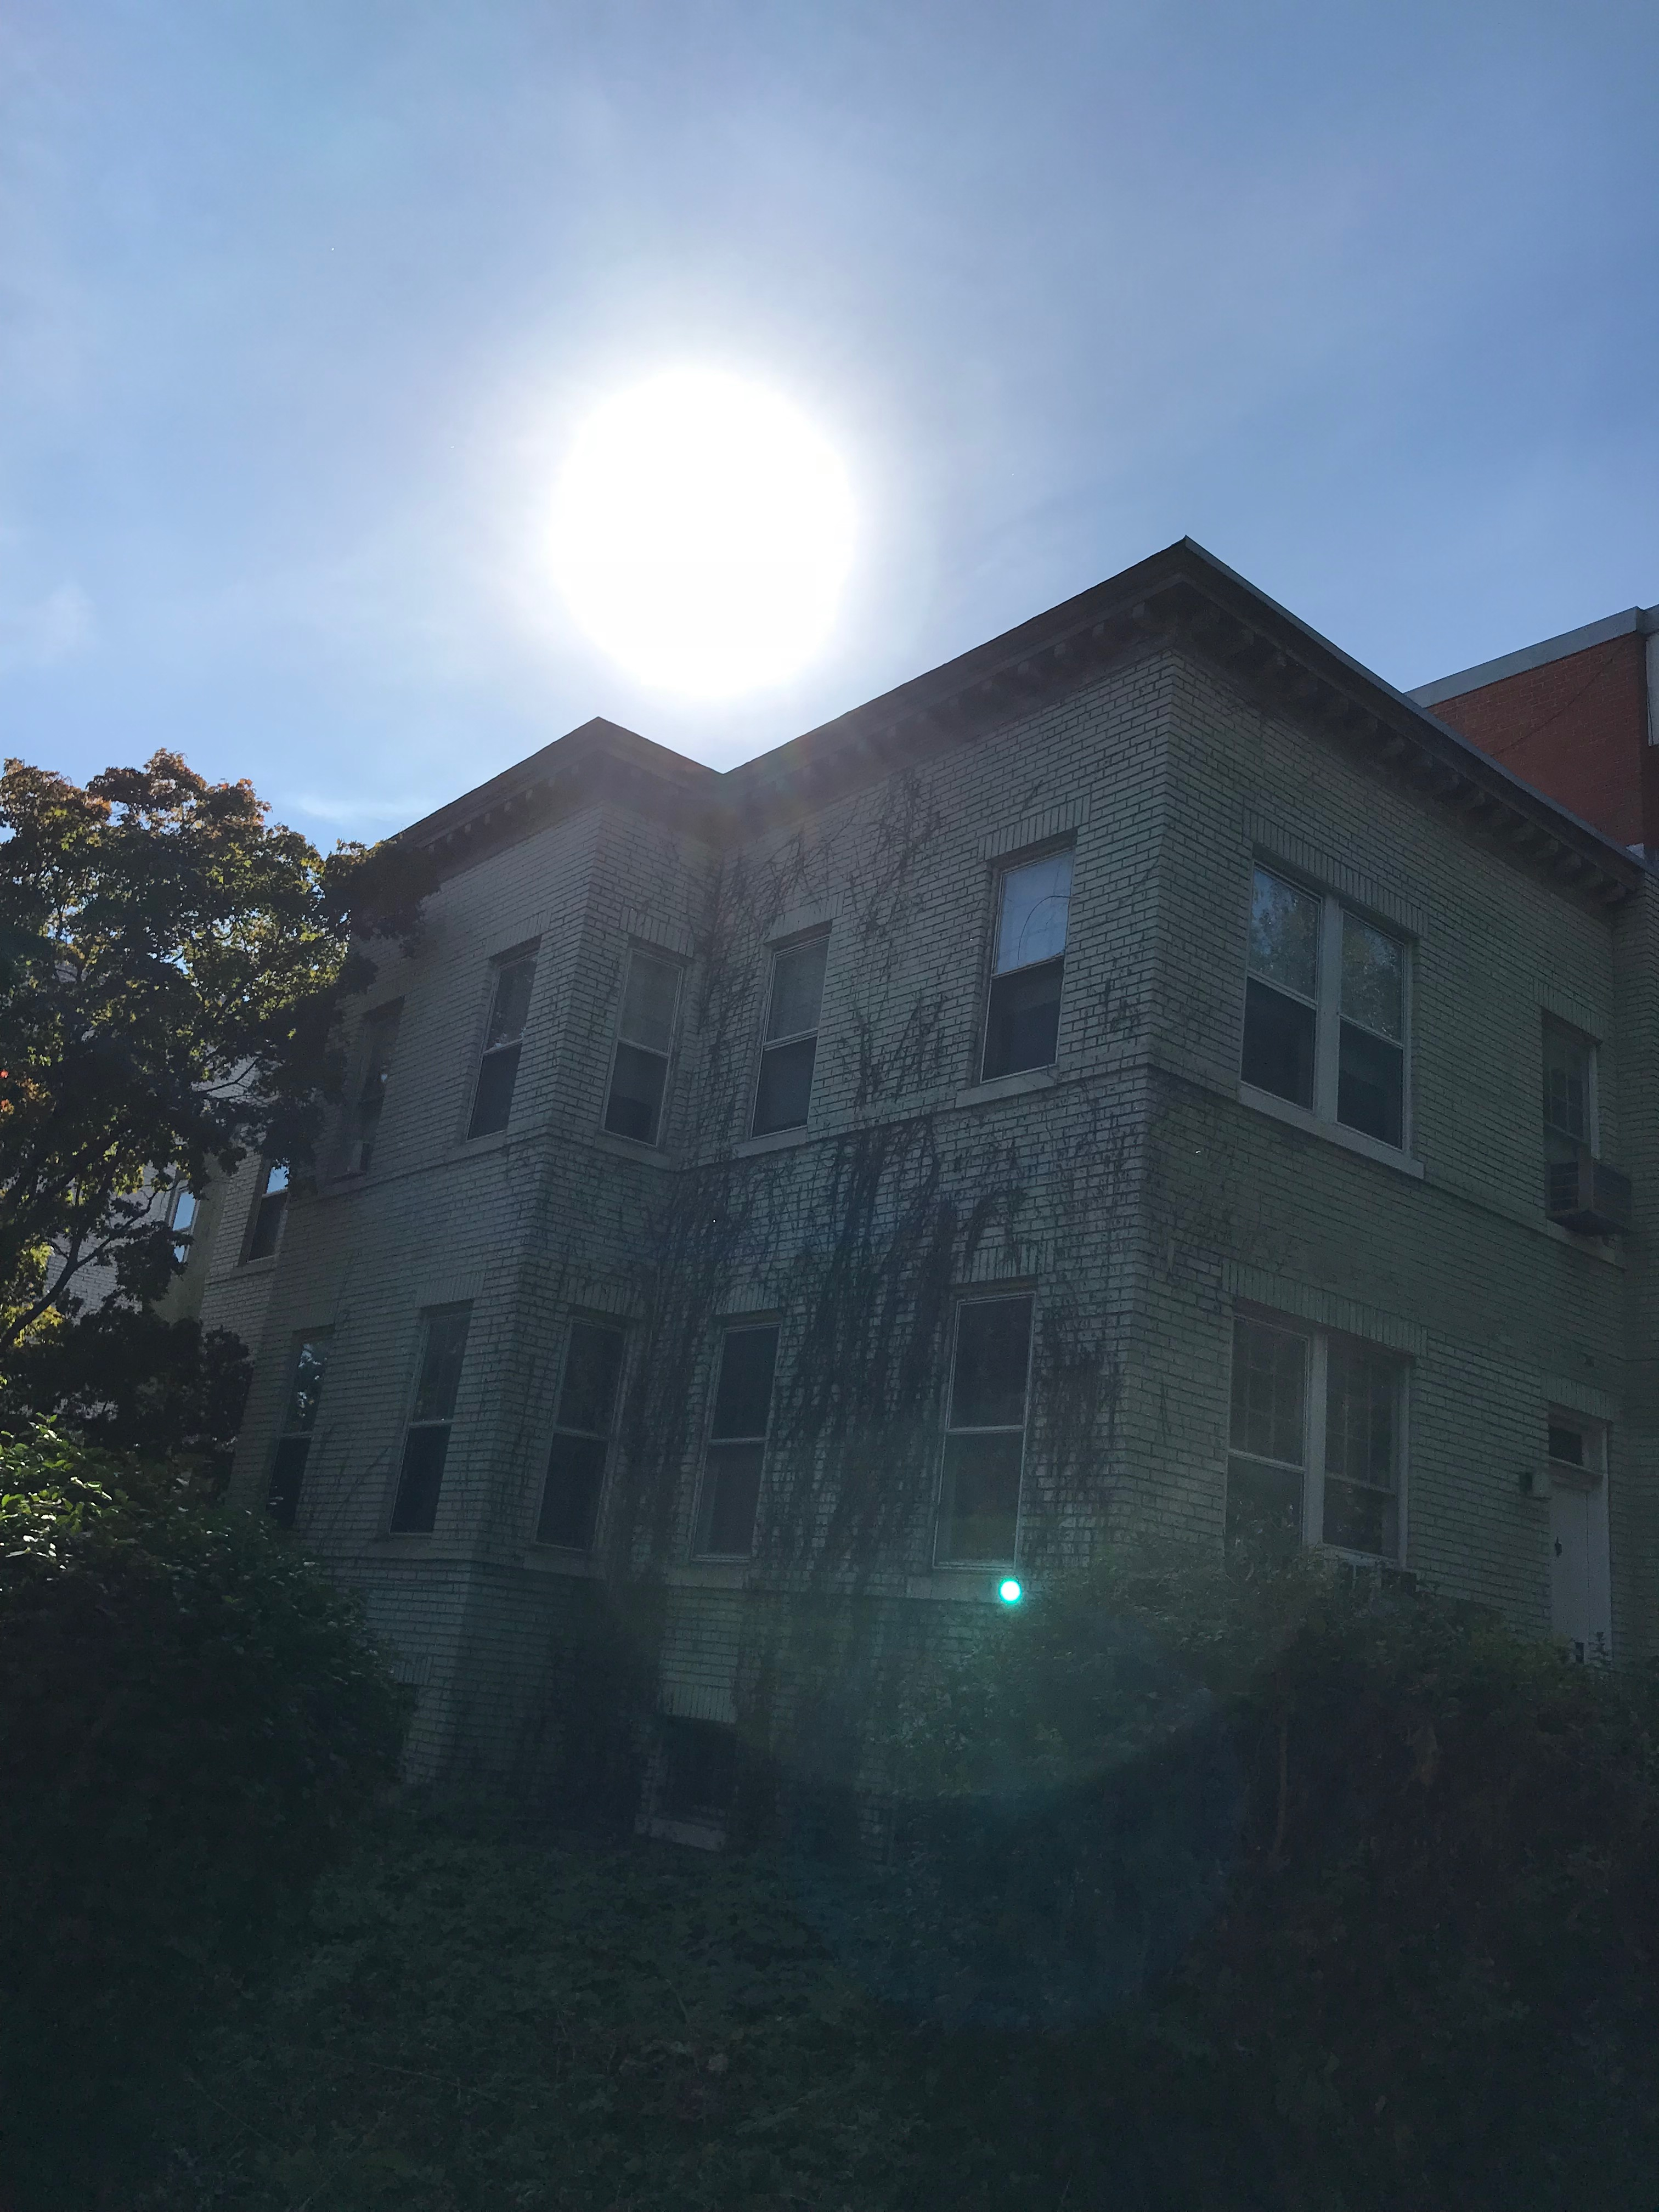flare: (995, 1575, 1025, 1608)
